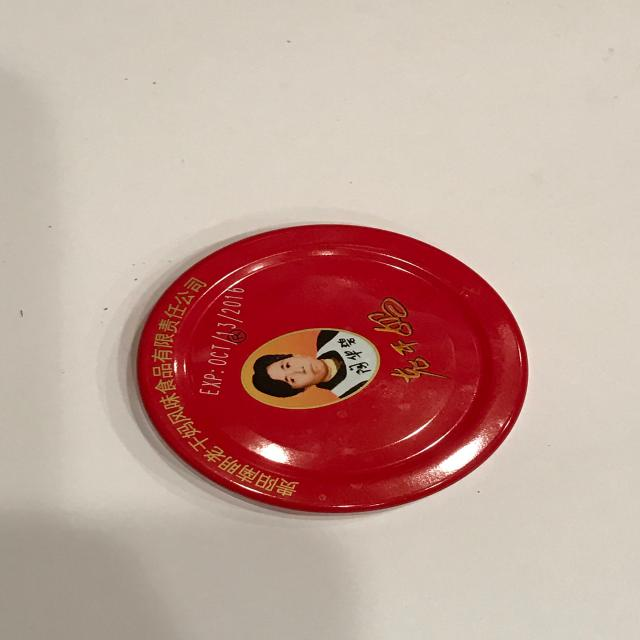metal: (133, 222, 529, 517)
